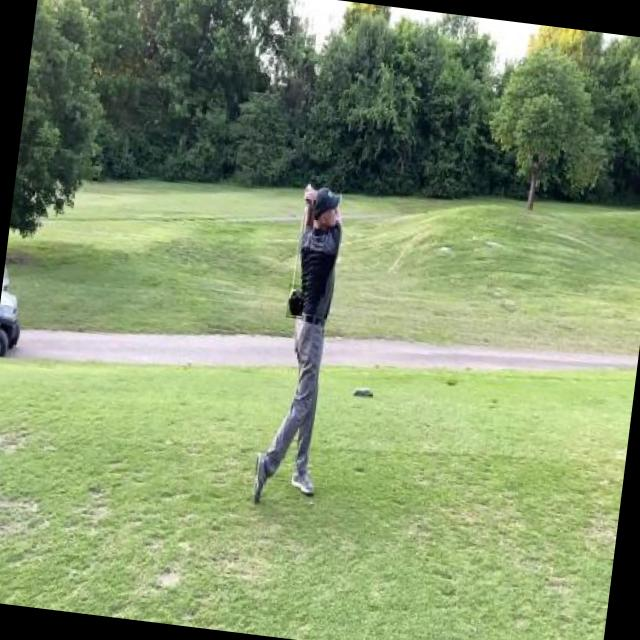club head: (285, 284, 305, 320)
